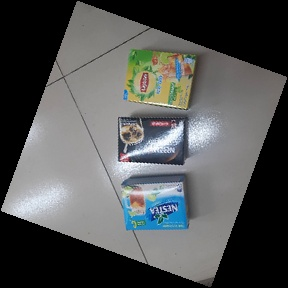CF Viet: (116, 115, 187, 167)
LipTon: (122, 49, 197, 110)
Nestea: (120, 174, 190, 233)
